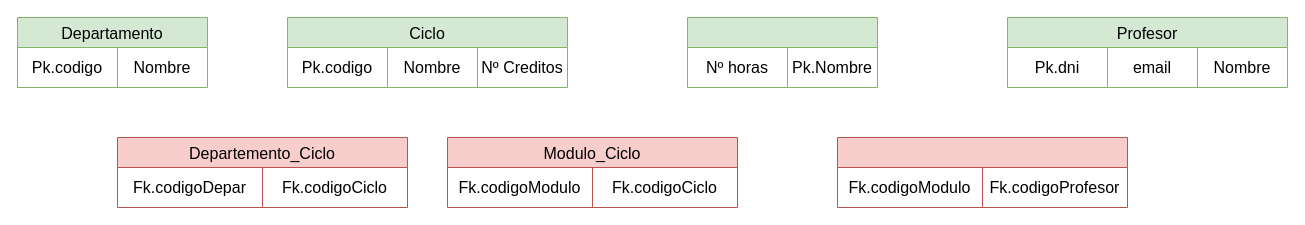
Some shapes in this 1305 by 225 pixel diagram are drawn without their labels. Each missing label, with the box of its shape:
Modulo: (686, 16, 878, 88)
Modulo_Profesor: (836, 136, 1128, 208)
